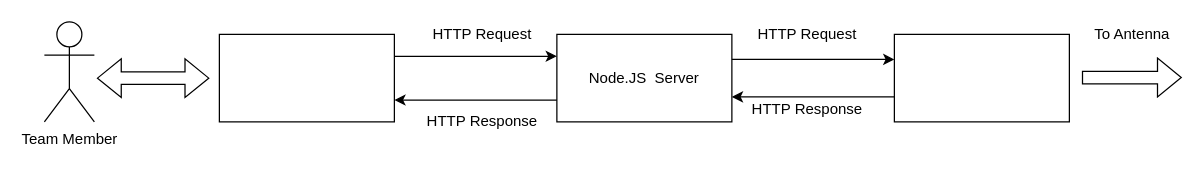
This 1204x170 diagram has some shape labels left out. Each missing label, with the centre of its shape:
Network Interface: the point at 981,77
Web Application Interface (Angular): the point at 306,77
